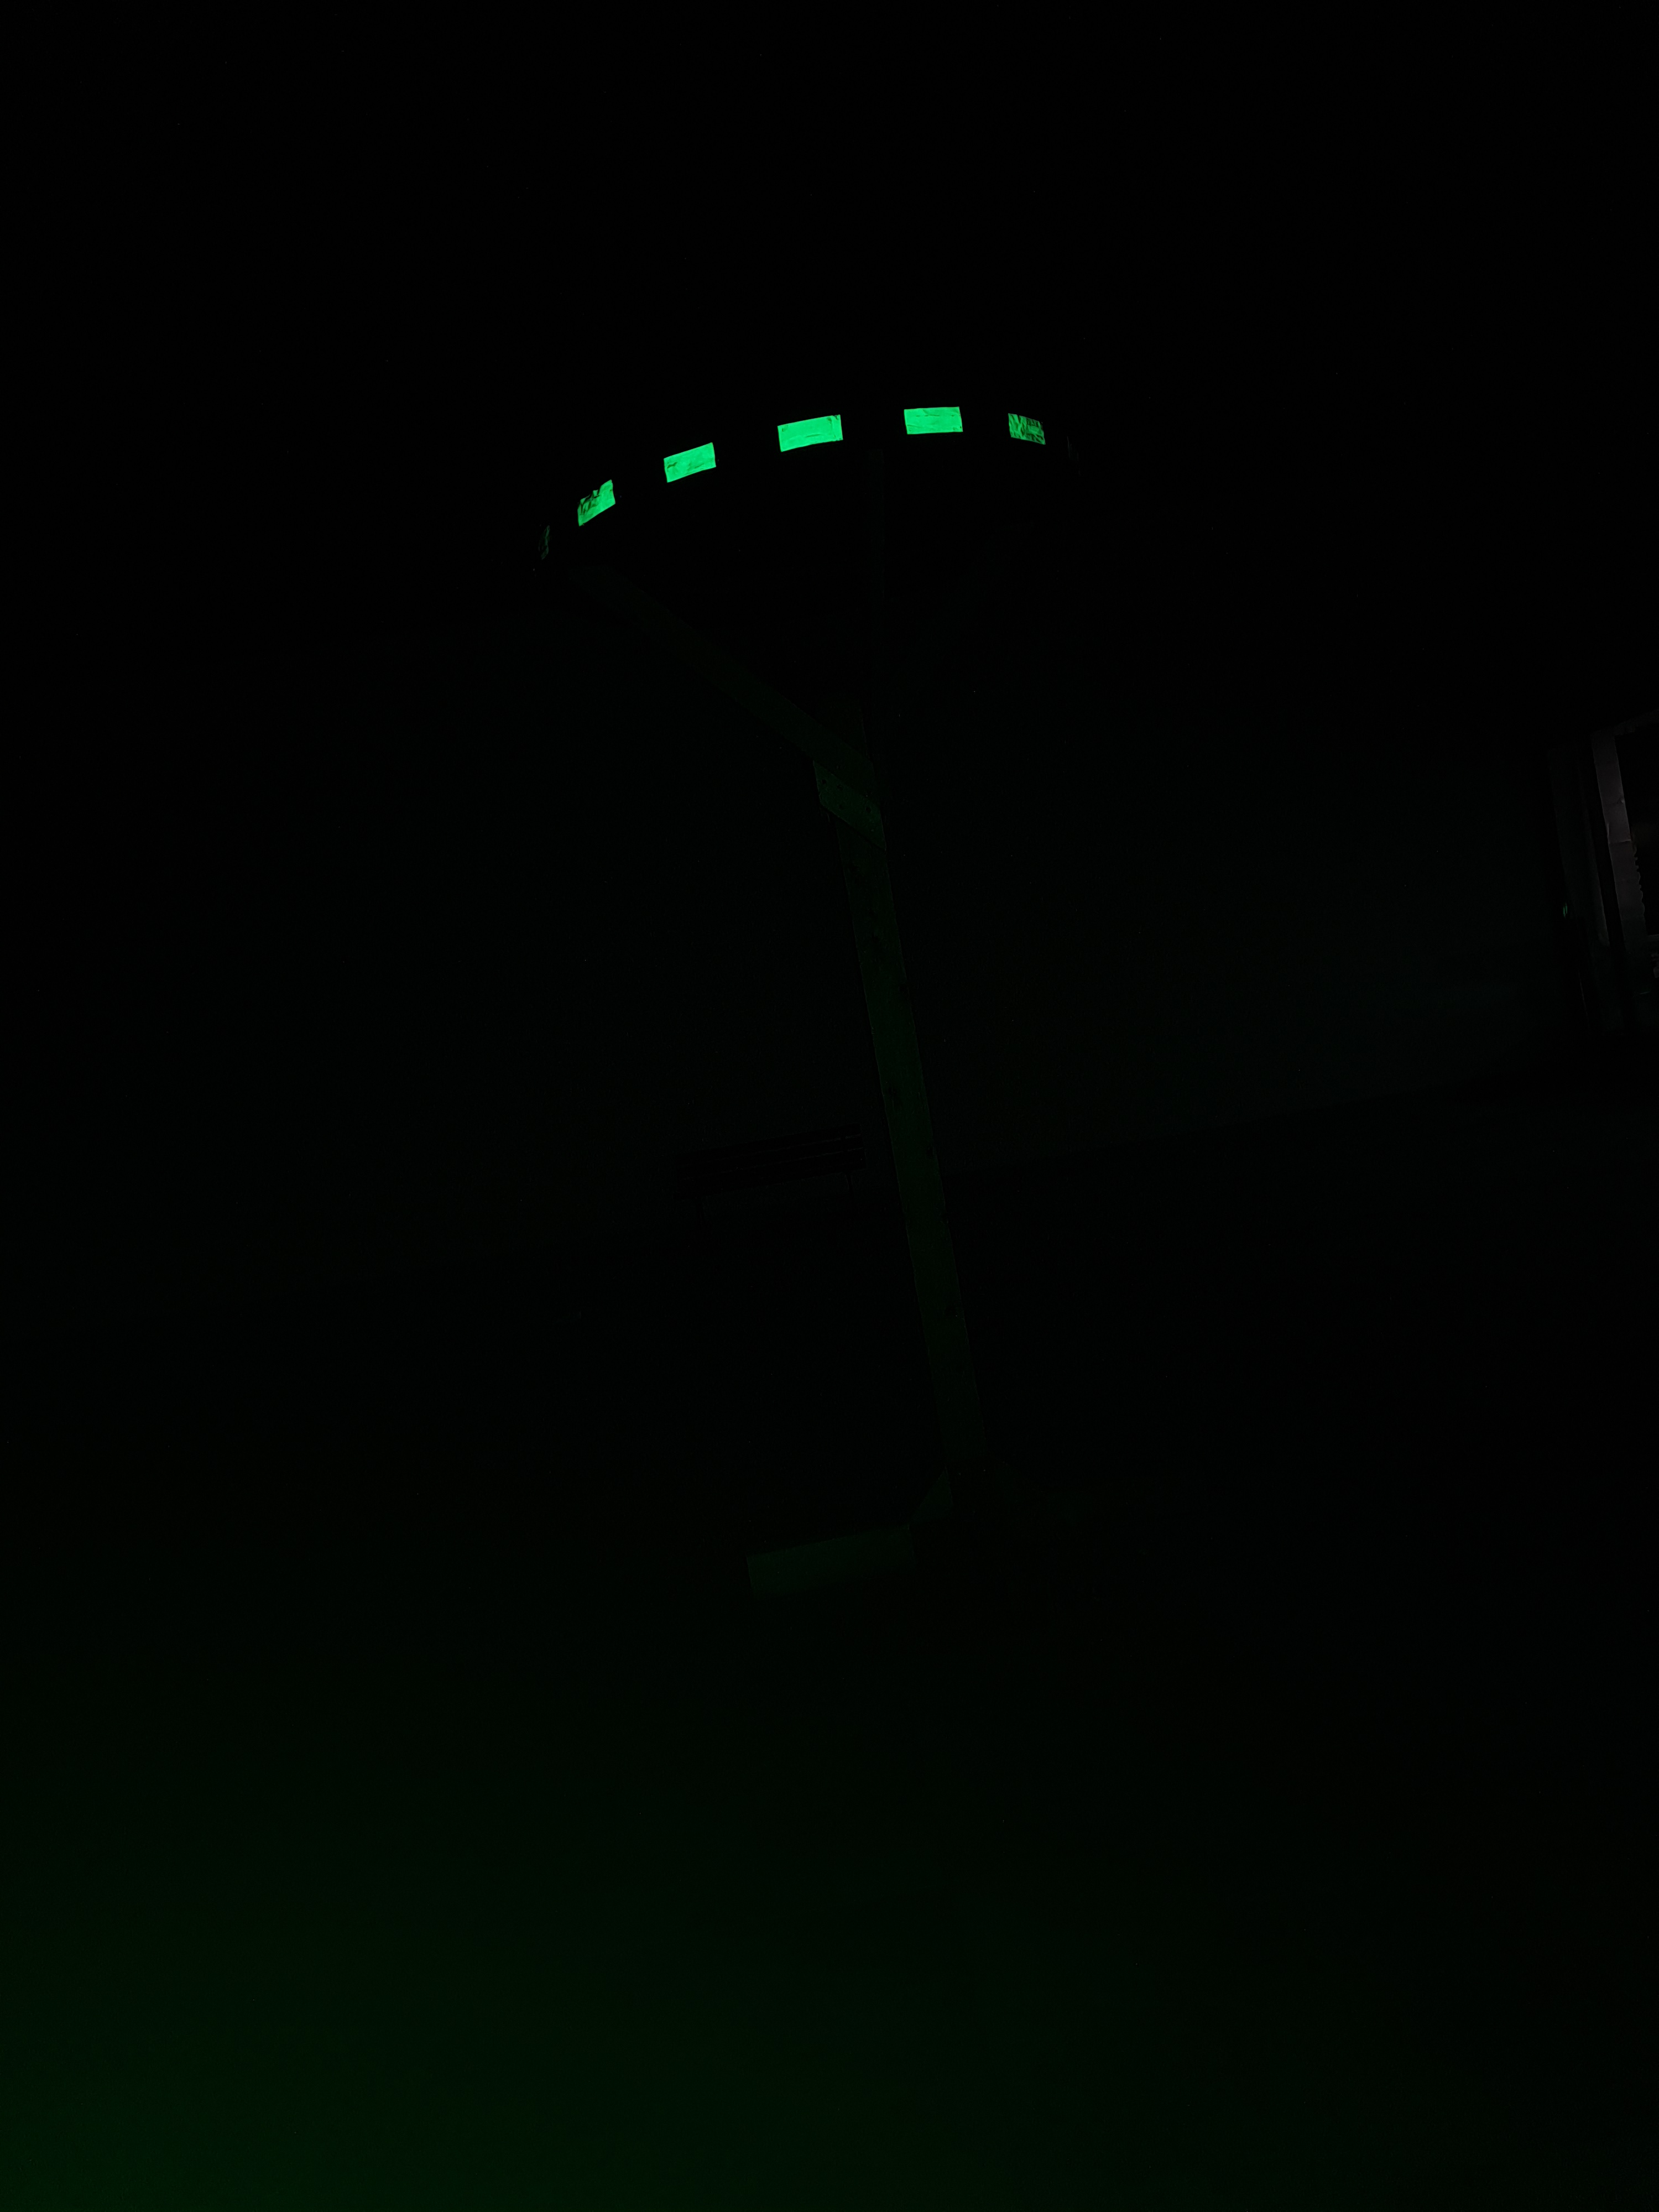hoop: (573, 401, 1051, 533)
